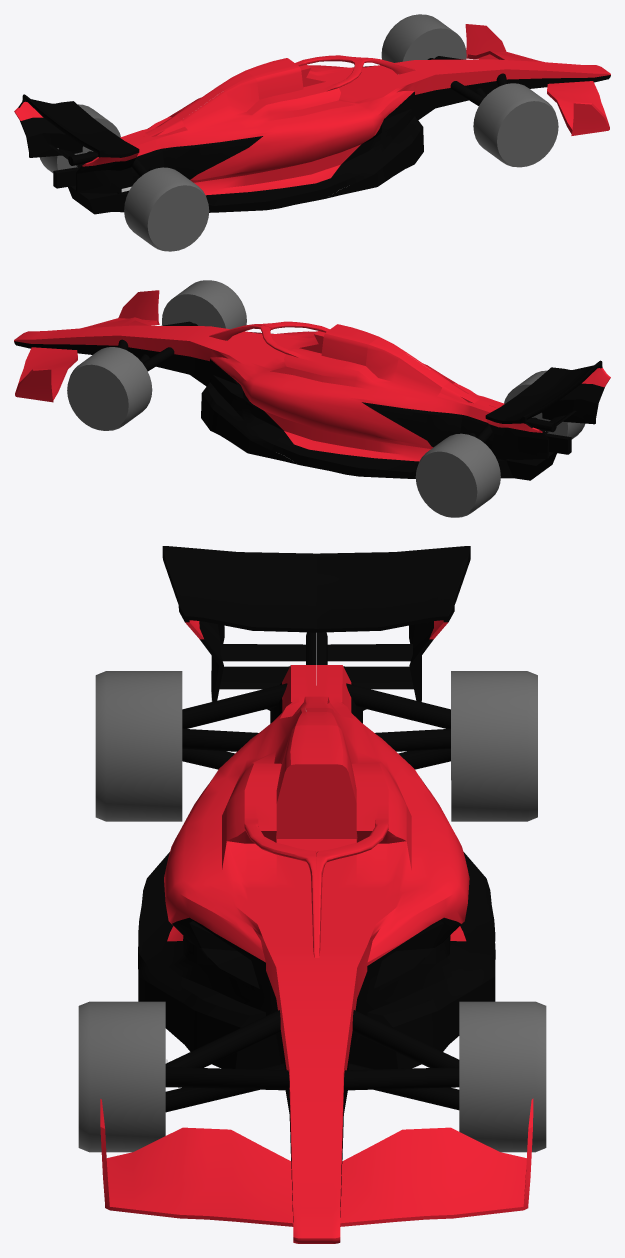
File: car_coloured.fbx
3 renders of one model, top to bottom at view 1: azimuth 30°, elevation 25°; view 2: azimuth 150°, elevation 25°; view 3: azimuth 270°, elevation 25°, orthographic. The views are drawn at different scales.
Parts seen in each view (by area): view 1: Cube; view 2: Cube; view 3: Cube.
Part boxes in pixels (<box>): Cube: <box>14,14,610,251</box>; Cube: <box>14,280,610,517</box>; Cube: <box>78,546,546,1243</box>.
Bounding box in the file's own units: 166 × 84.77 × 455.
